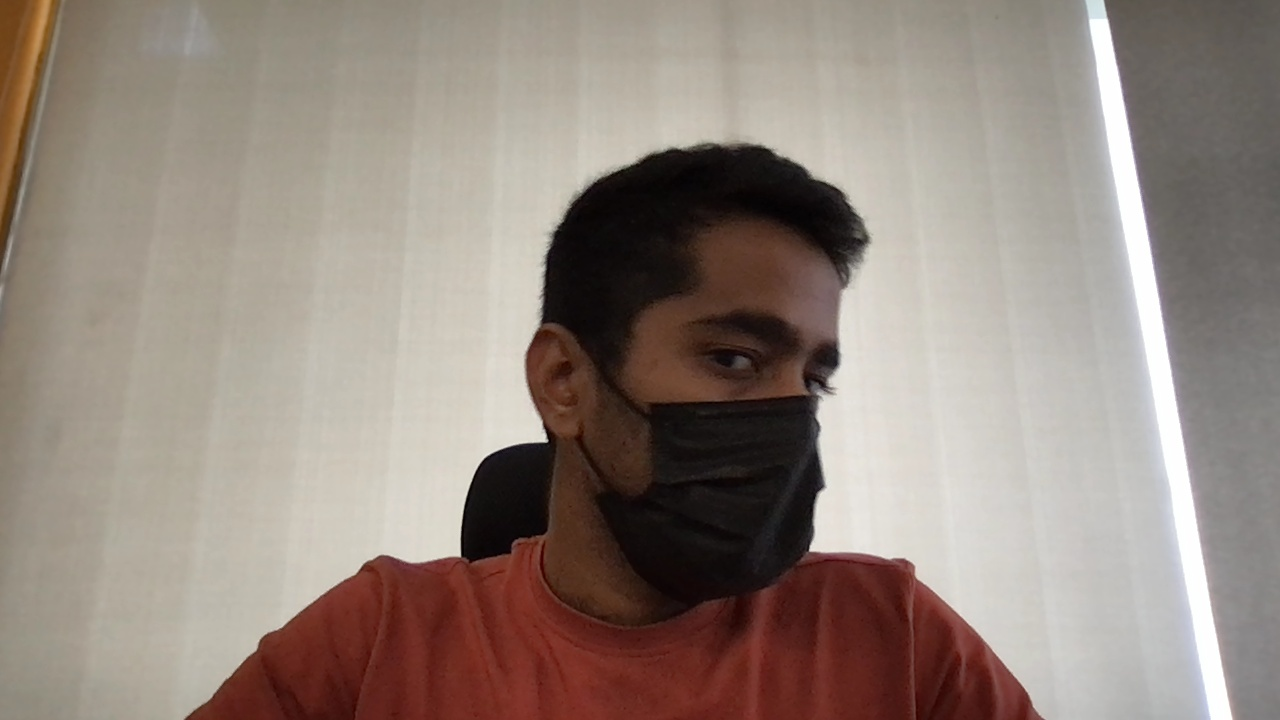mask: (594, 394, 824, 601)
